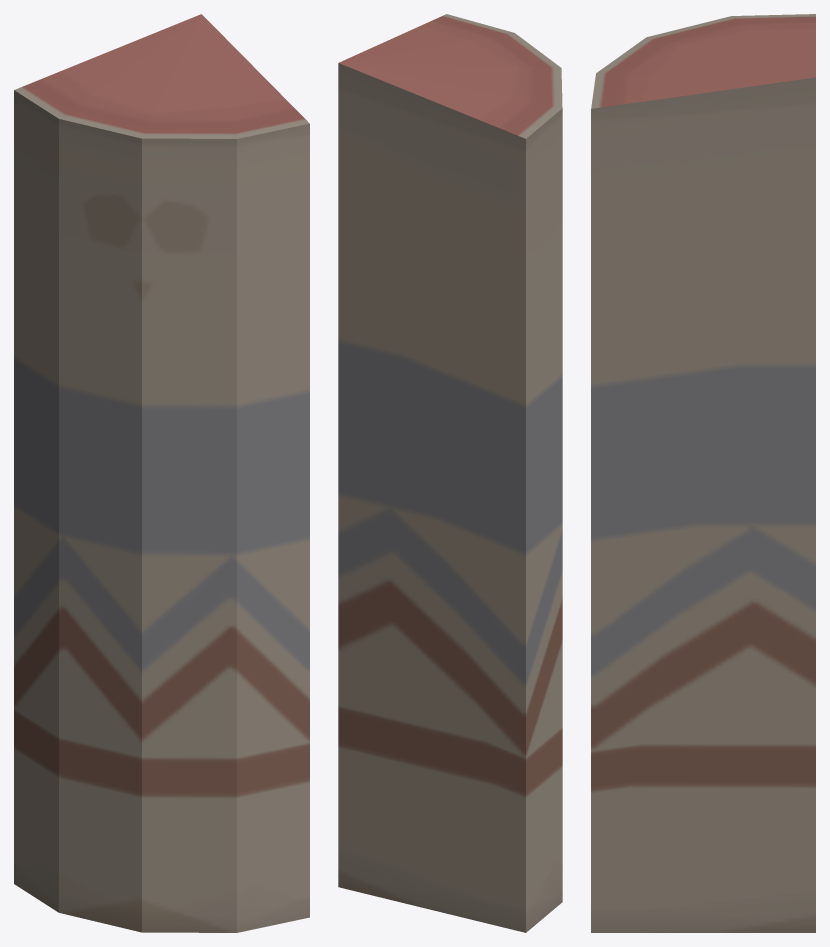
File: SM_Bld_Wall_Balcony_Corner_01.fbx
The picture shows the model from 3 angles, left to right: view 1: azimuth 30°, elevation 25°; view 2: azimuth 150°, elevation 25°; view 3: azimuth 270°, elevation 25°; orthographic projection. The views are drawn at different scales.
Visible parts, largest first — view 1: SM_Bld_Wall_Balcony_Corner_01; view 2: SM_Bld_Wall_Balcony_Corner_01; view 3: SM_Bld_Wall_Balcony_Corner_01.
Part boxes in pixels (x1,y1,x2,y2): SM_Bld_Wall_Balcony_Corner_01: (14, 14, 309, 932); SM_Bld_Wall_Balcony_Corner_01: (338, 14, 562, 932); SM_Bld_Wall_Balcony_Corner_01: (591, 14, 815, 932).
Size of the model in its own units: 11.31 by 47.52 by 11.31.
